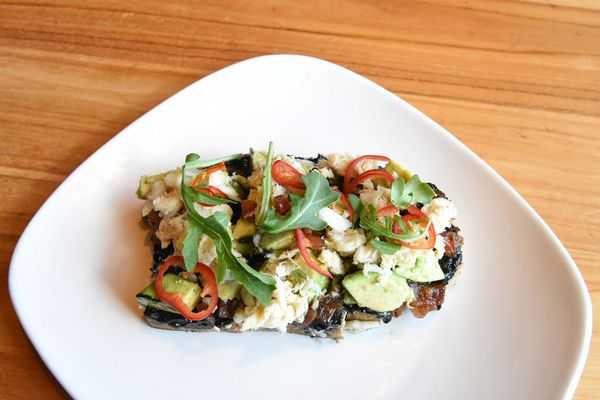sushi: (30, 48, 594, 396)
